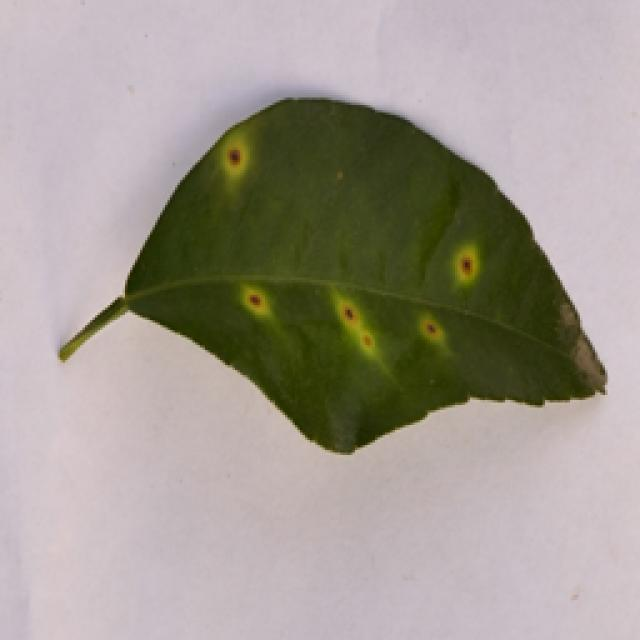canker: (165, 112, 575, 434)
